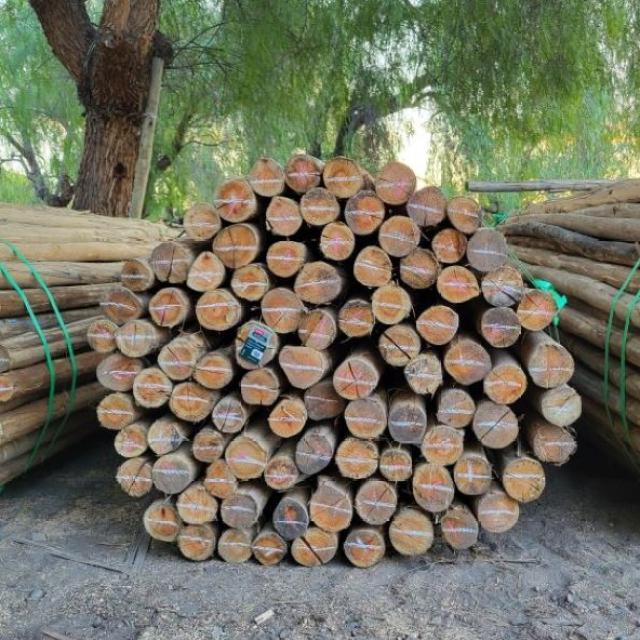package: (90, 156, 578, 566)
